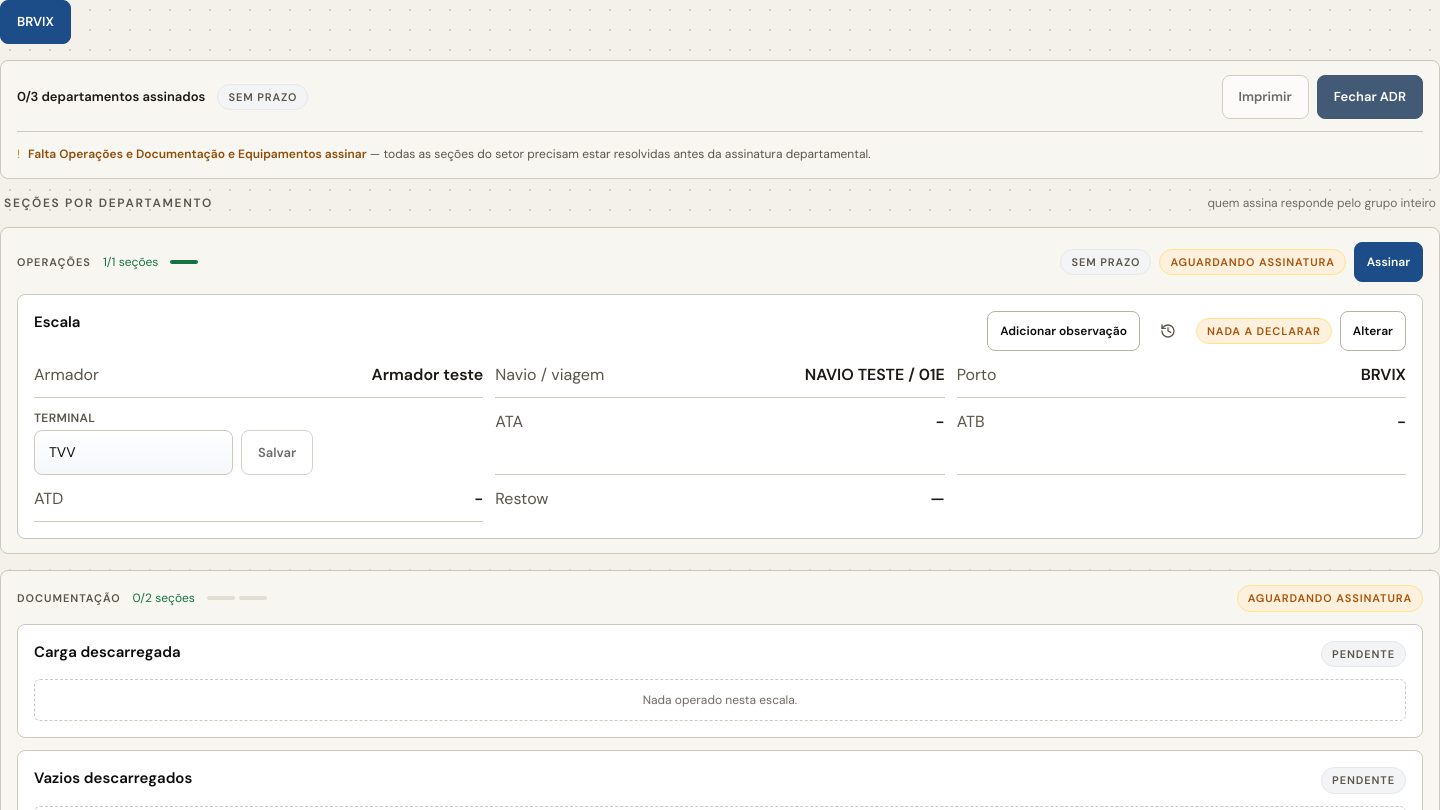
com eventos, o histórico lista de→para, autor e justificativa
What coordinates should you click on to do the following:
click the button titled "Ver histórico"
I would click on:
 (1168, 331)
Its box is [1148, 311, 1188, 351].
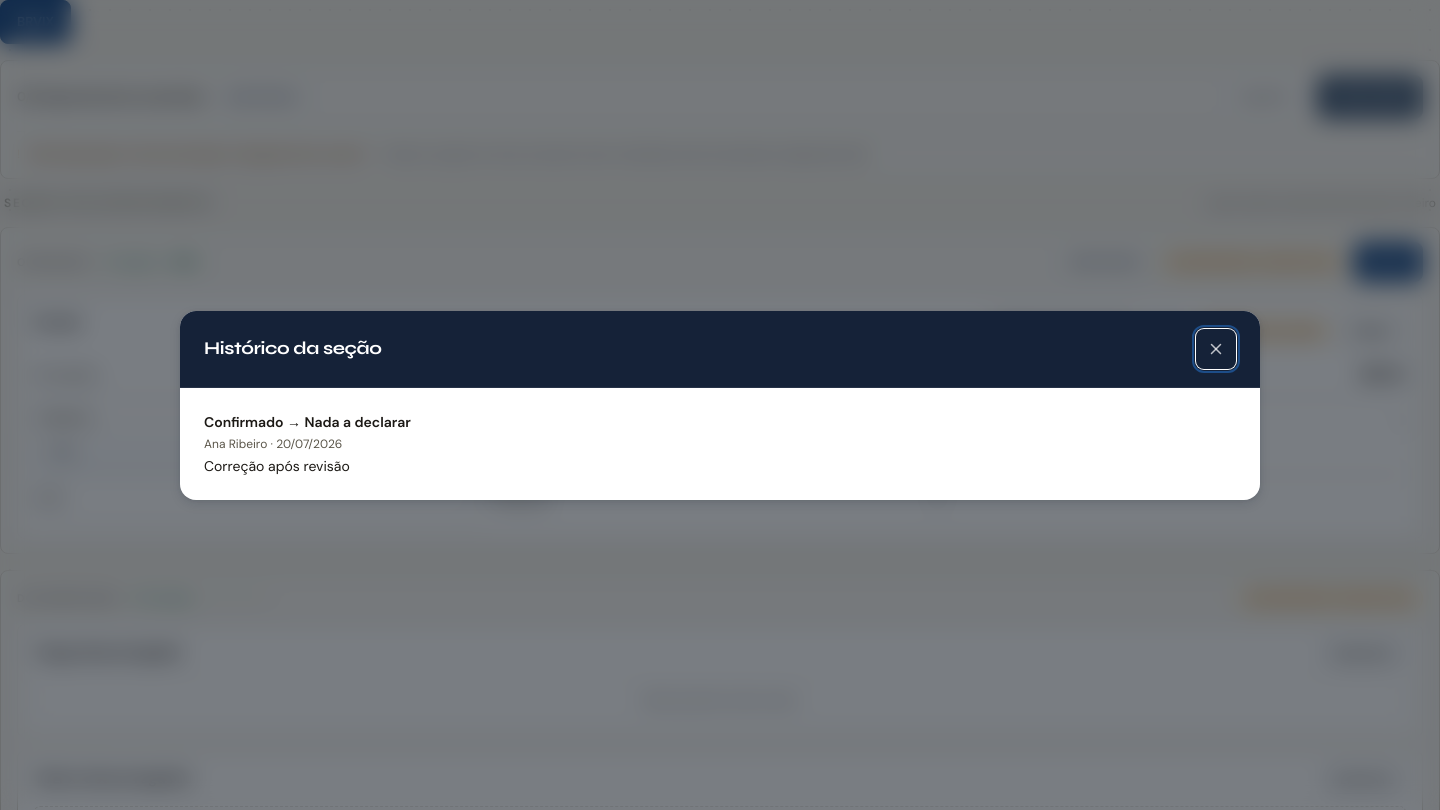
Now the text "Confirmado → Nada a declarar" is shown, box [204, 412, 411, 430]
Now the text "Ana Ribeiro · 20/07/2026" is shown, box [204, 436, 342, 452]
Now the text "Correção após revisão" is shown, box [204, 456, 350, 474]
